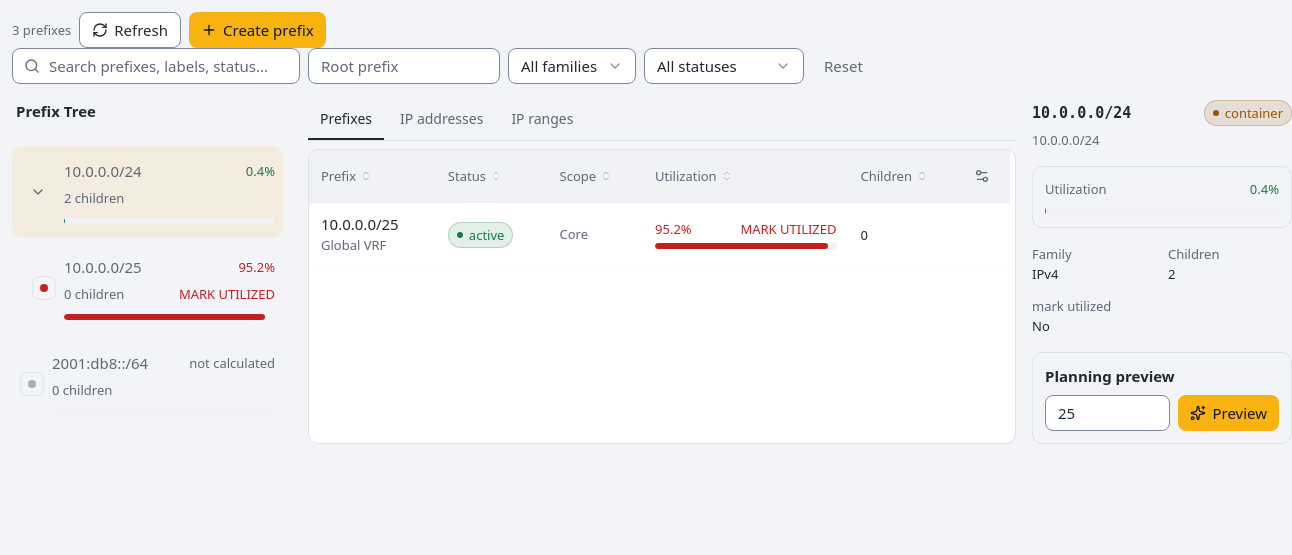
Test: IpamWorkspace › previews next available prefix for the selected prefix
The image size is (1292, 555).
expect the element named "Prefix Tree" is shown: met, box [12,146,292,430]
Replace the text in the number field named "Child prefix length" with "26" at coordinates (1108, 413), box [1045,395,1170,431]
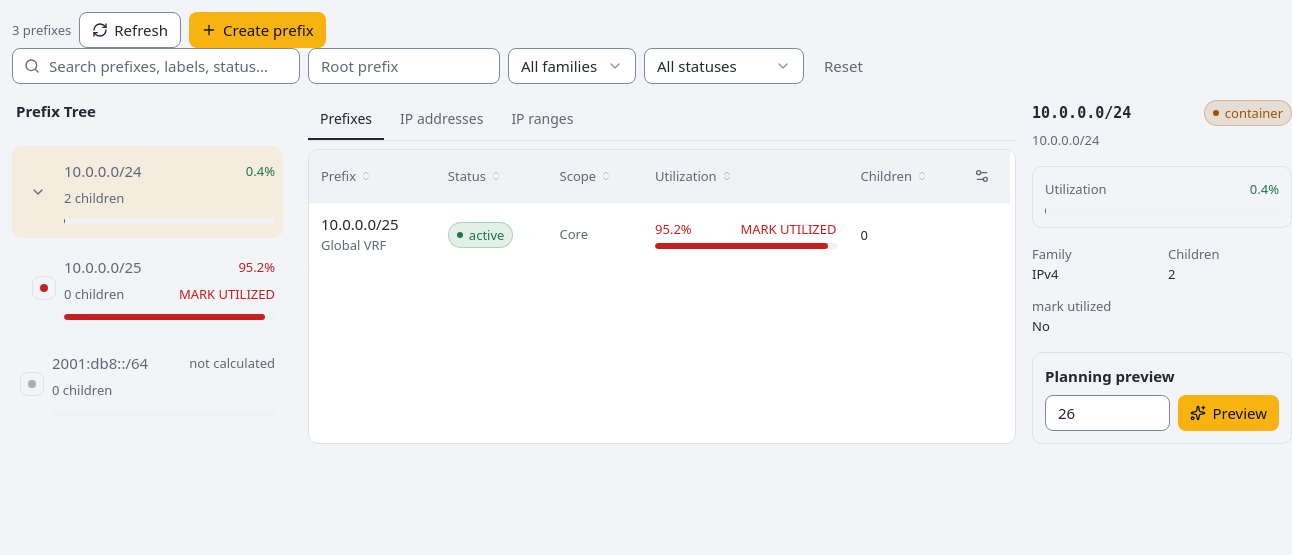
Click the button "Preview" at coordinates (1229, 413), box [1178,395,1279,431]
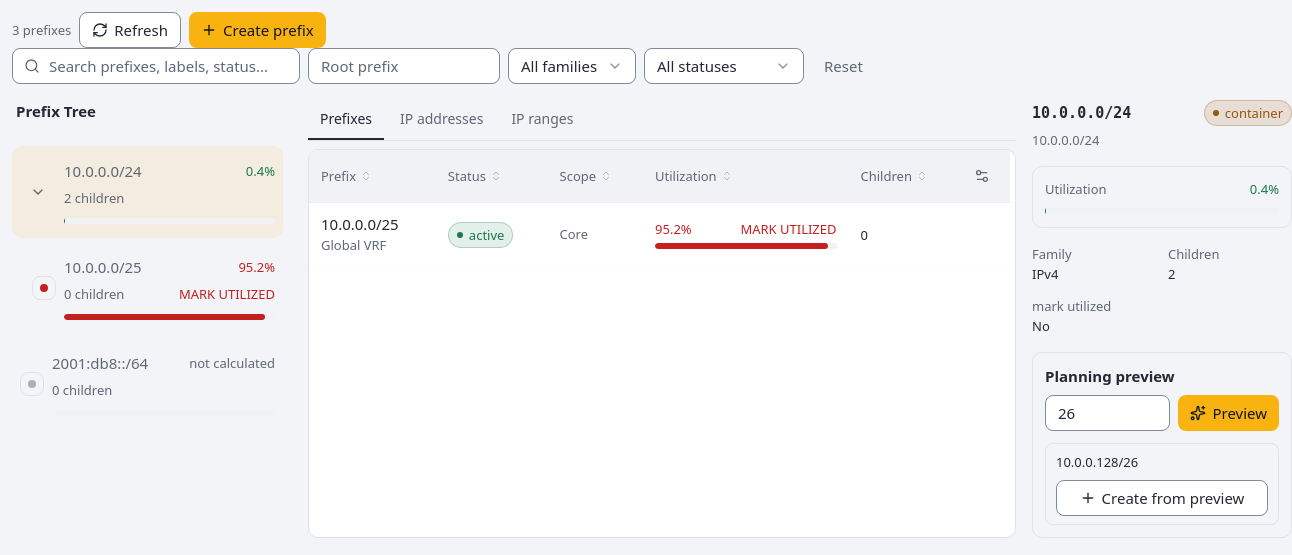
expect the text "10.0.0.128/26" is shown: met, box [1056,453,1138,471]
